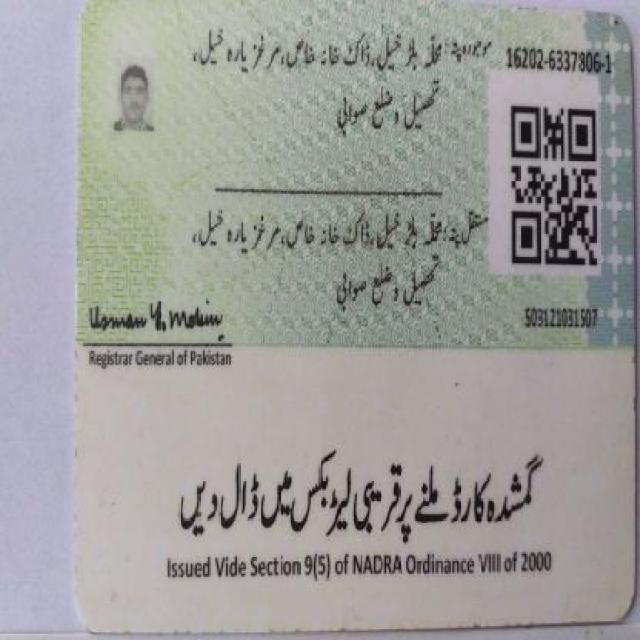Back: (74, 6, 634, 628)
